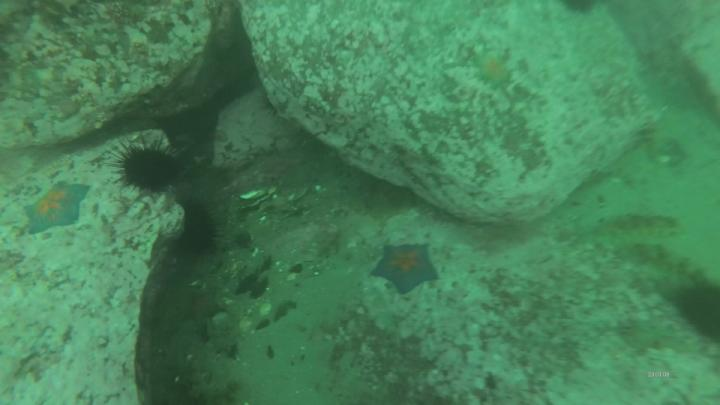echinus: (120, 146, 180, 191), (679, 289, 720, 342), (184, 209, 218, 257)
holothurian: (622, 242, 712, 281), (602, 214, 683, 240), (643, 119, 666, 157)
starfish: (24, 183, 92, 234), (374, 241, 439, 293), (475, 56, 510, 91)
